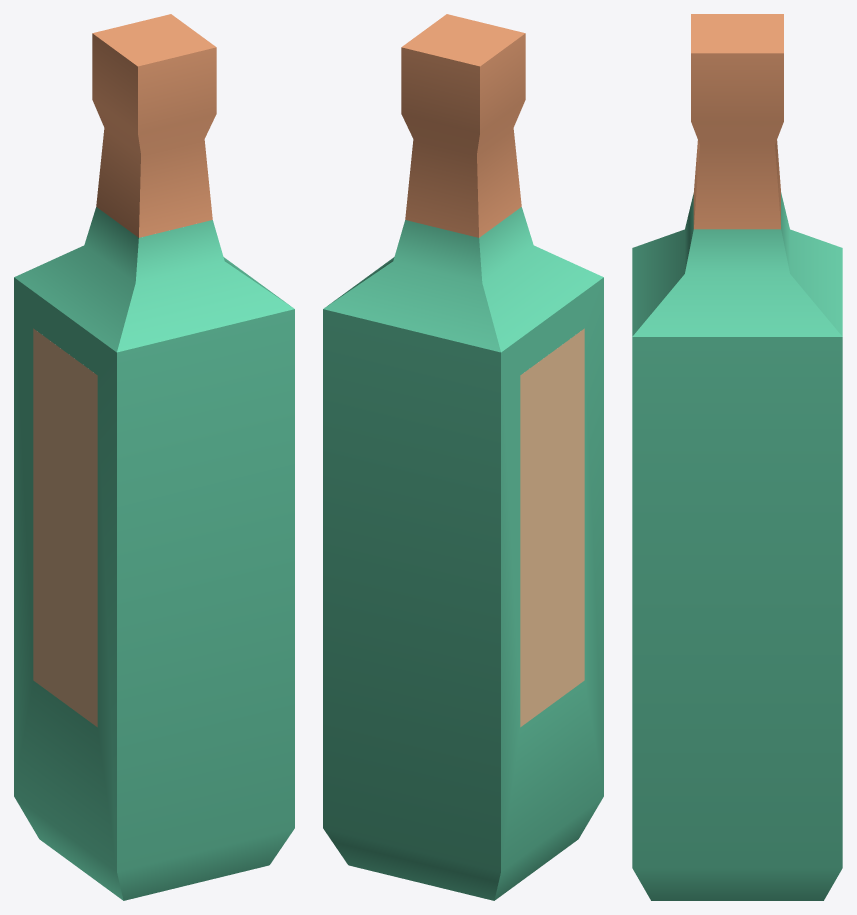
Rendered from oil.glb.
3 views of the same model, side by side, from view 1: azimuth 30°, elevation 25°; view 2: azimuth 150°, elevation 25°; view 3: azimuth 270°, elevation 25° (orthographic). The views are drawn at different scales.
Visible parts, largest first — view 1: bottleOil; view 2: bottleOil; view 3: bottleOil.
Part boxes in pixels (x1=…): bottleOil: x1=14, y1=14, x2=294, y2=900; bottleOil: x1=323, y1=14, x2=603, y2=900; bottleOil: x1=632, y1=14, x2=842, y2=900.
Bounding box in the file's own units: 0.14 × 0.61 × 0.14.
